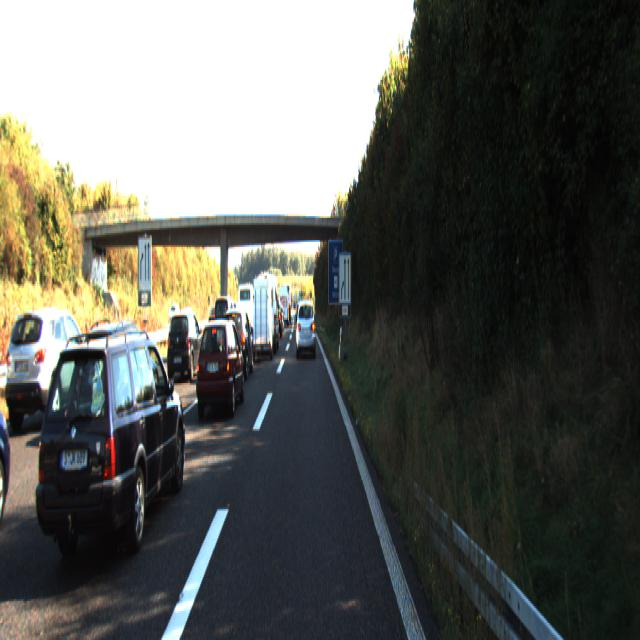Car: (34, 326, 189, 581), (5, 306, 97, 434), (76, 317, 162, 440), (195, 316, 246, 418), (166, 309, 205, 382), (220, 304, 254, 380), (250, 276, 274, 362), (256, 270, 280, 350), (296, 296, 316, 356), (278, 285, 290, 326)
